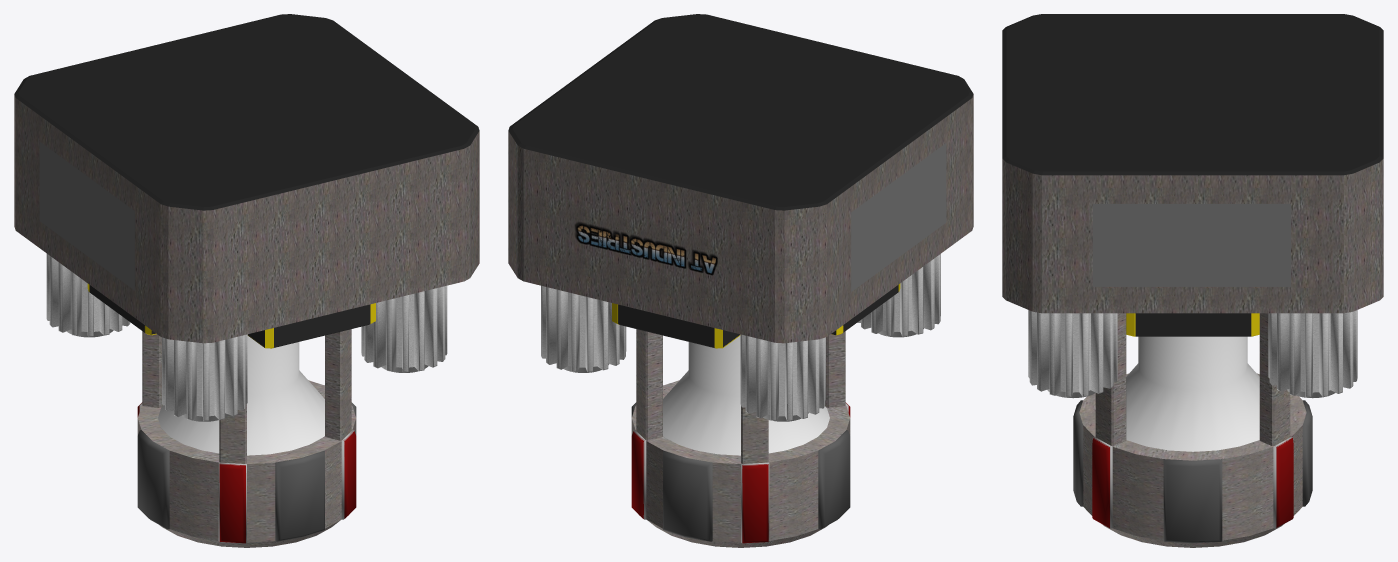
The model's file is asteroid-mining-factory.fbx.
3 renders of one model, left to right at view 1: azimuth 30°, elevation 25°; view 2: azimuth 150°, elevation 25°; view 3: azimuth 270°, elevation 25°, orthographic. The views are drawn at different scales.
Visible parts, largest first — view 1: factory-base, drill, generator_001, generator, generator_003, drill-holder_002, battery_001, drill-holder_001, drill-holder_003; view 2: factory-base, drill, generator_003, generator_002, generator_001, drill-holder, battery_003, drill-holder_003, drill-holder_001; view 3: factory-base, drill, generator, generator_002, battery, drill-holder, drill-holder_002.
Part boxes in pixels (x1,y1,x2,y2): factory-base: (14, 14, 479, 343); drill: (137, 336, 356, 547); generator_001: (162, 334, 247, 421); generator: (361, 285, 447, 372); generator_003: (46, 253, 130, 337); drill-holder_002: (325, 329, 351, 440); battery_001: (247, 303, 375, 348); drill-holder_001: (142, 331, 162, 407); drill-holder_003: (219, 404, 246, 463); factory-base: (508, 14, 973, 343); drill: (631, 336, 850, 547); generator_003: (740, 334, 825, 421); generator_002: (541, 285, 626, 372); generator_001: (857, 254, 940, 337); drill-holder: (636, 329, 662, 440); battery_003: (612, 303, 740, 348); drill-holder_003: (825, 331, 845, 407); drill-holder_001: (741, 406, 768, 463); factory-base: (1002, 14, 1383, 313); drill: (1073, 336, 1312, 547); generator: (1028, 310, 1117, 398); generator_002: (1268, 310, 1357, 398); battery: (1126, 313, 1259, 336); drill-holder: (1259, 313, 1290, 445); drill-holder_002: (1095, 313, 1126, 445).
Size of what is drawn, in the model's own units: 7 by 8.34 by 7.
4 materials, 4 textured.
